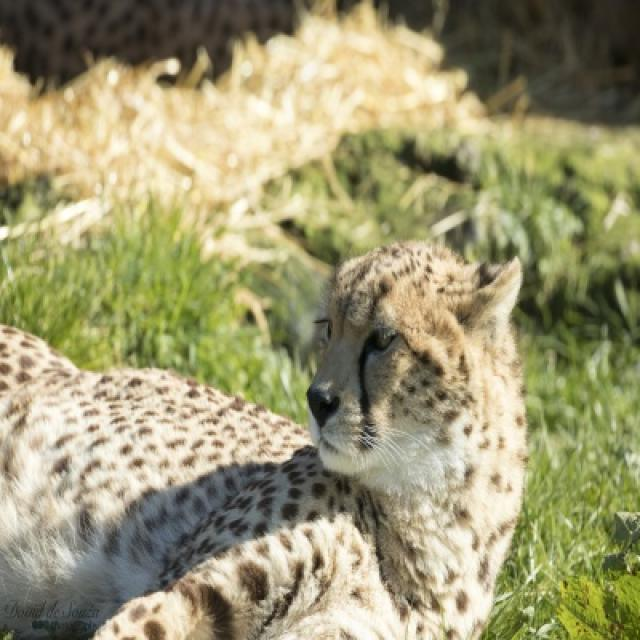Cheetah: (0, 240, 528, 638)
